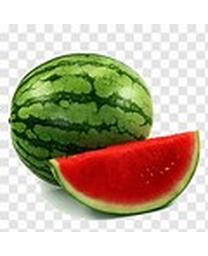watermelon: (10, 53, 154, 188), (44, 128, 202, 217)
